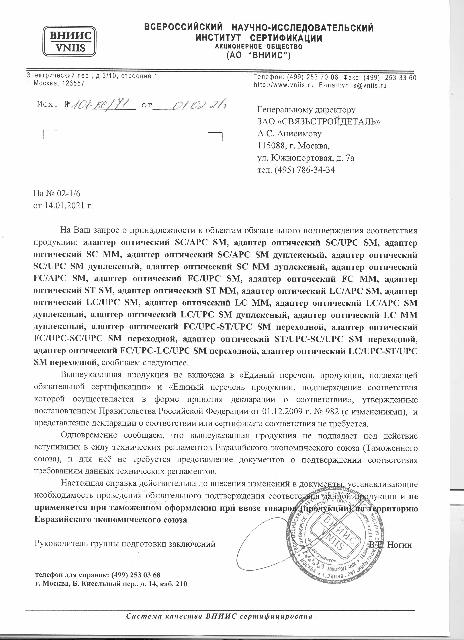stamp: (284, 484, 384, 584)
